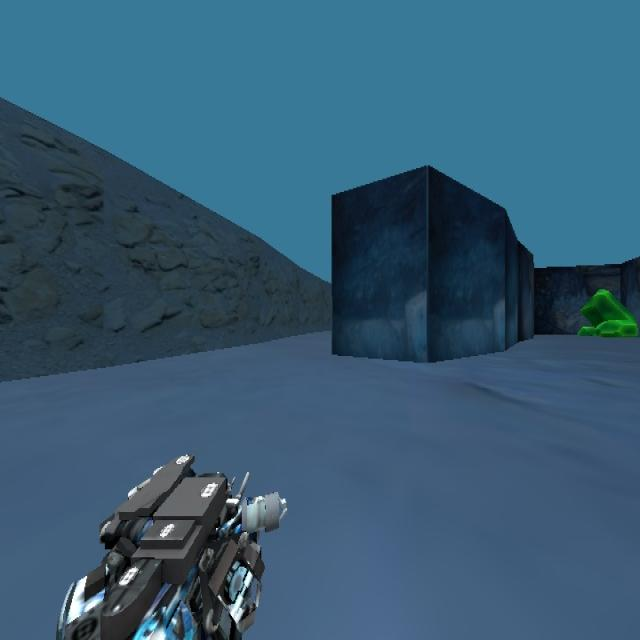Diamon: (577, 286, 637, 338)
